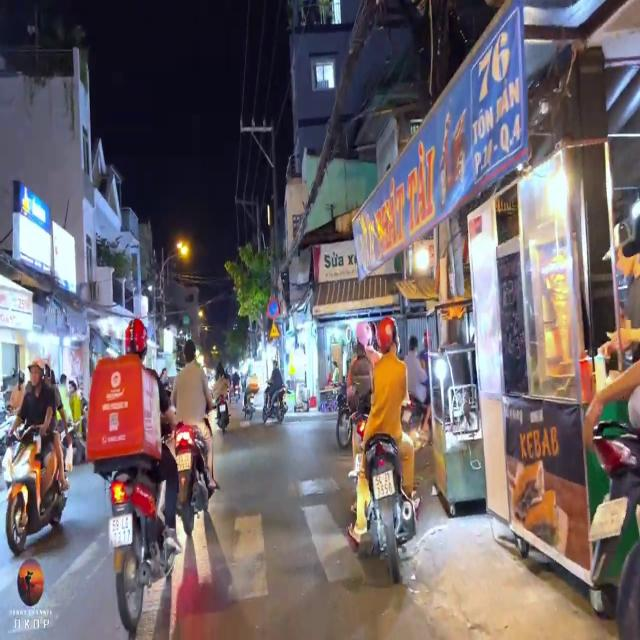bien_trang: (105, 512, 134, 550), (371, 469, 396, 503)
